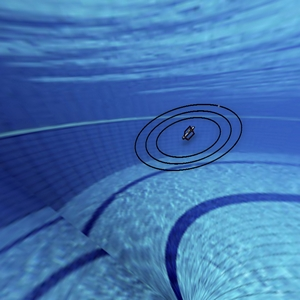circle: (124, 95, 250, 181)
submarine: (180, 122, 201, 149)
